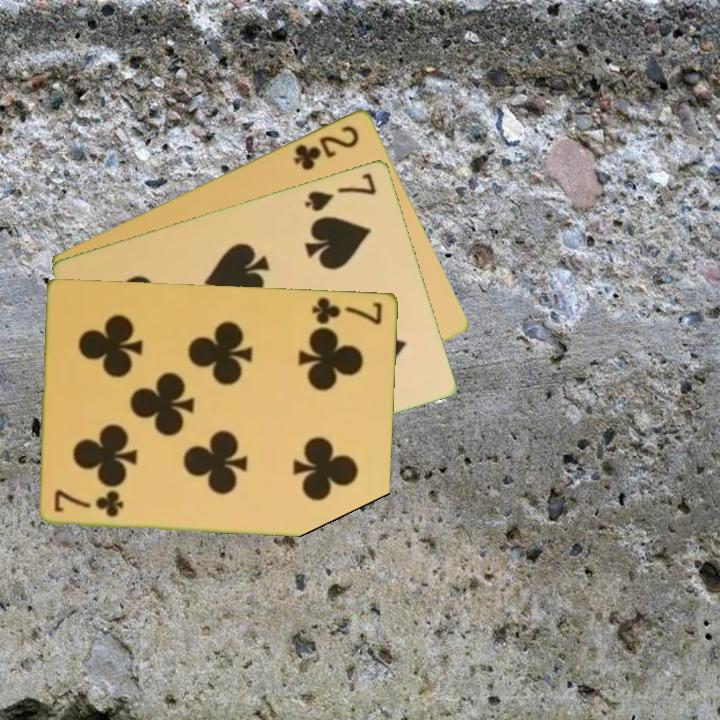2c: (290, 121, 363, 173)
7c: (308, 293, 386, 327), (51, 487, 127, 519)
7s: (301, 169, 380, 214)
